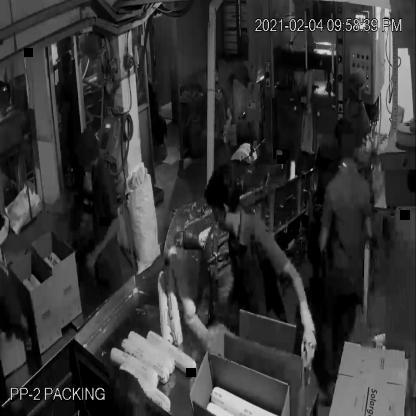glove: (272, 247, 320, 374), (198, 304, 246, 356)
no_glove: (82, 214, 122, 281), (7, 287, 35, 361), (219, 101, 233, 150)
